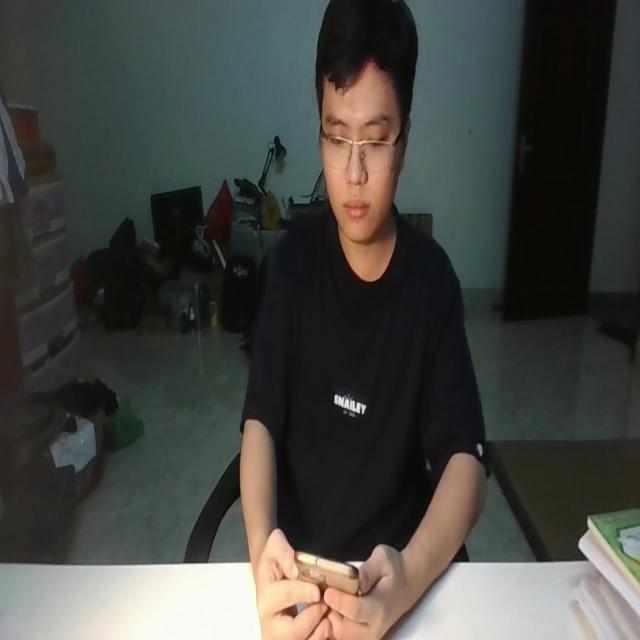phone: (294, 538, 358, 597)
student: (239, 0, 487, 640)
